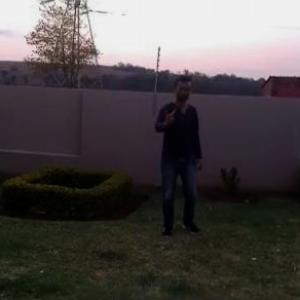takeoff-hand: (153, 100, 183, 136)
